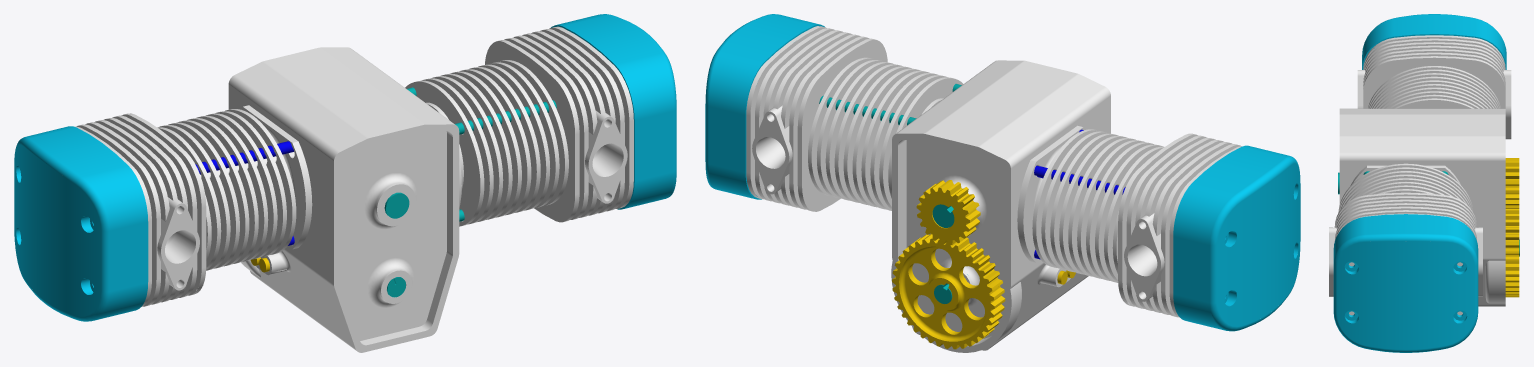
The model's file is engine.gltf.
The picture shows the model from 3 angles, left to right: view 1: azimuth 30°, elevation 25°; view 2: azimuth 150°, elevation 25°; view 3: azimuth 270°, elevation 25°; orthographic projection. The views are drawn at different scales.
Parts seen in each view (by area): view 1: body_1, body_12, body_2, body_3, body_4, body_8, body_5, body, body_6, body_22; view 2: body_1, body_12, body_3, body_4, body_2, body_8, body_5, body_21, body_23; view 3: body_5, body_1, body_8, body_3, body_4, body_2, body_12, body_21, body_23.
Part boxes in pixels (bbox=[...]): body_1: bbox=[228, 47, 459, 352]; body_12: bbox=[14, 126, 148, 321]; body_2: bbox=[405, 60, 568, 226]; body_3: bbox=[157, 105, 312, 270]; body_4: bbox=[485, 26, 633, 222]; body_8: bbox=[75, 113, 206, 306]; body_5: bbox=[551, 14, 676, 209]; body: bbox=[195, 141, 293, 174]; body_6: bbox=[407, 87, 556, 221]; body_22: bbox=[384, 192, 409, 218]; body_1: bbox=[891, 60, 1110, 352]; body_12: bbox=[1173, 145, 1300, 331]; body_3: bbox=[1017, 125, 1164, 282]; body_4: bbox=[746, 26, 887, 211]; body_2: bbox=[808, 57, 963, 210]; body_8: bbox=[1118, 133, 1242, 317]; body_5: bbox=[705, 14, 824, 199]; body_21: bbox=[892, 234, 1005, 349]; body_23: bbox=[916, 180, 980, 245]; body_5: bbox=[1333, 214, 1478, 352]; body_1: bbox=[1339, 108, 1505, 306]; body_8: bbox=[1357, 35, 1511, 139]; body_3: bbox=[1368, 66, 1500, 108]; body_4: bbox=[1329, 192, 1482, 315]; body_2: bbox=[1338, 163, 1473, 212]; body_12: bbox=[1362, 14, 1506, 69]; body_21: bbox=[1505, 209, 1519, 297]; body_23: bbox=[1505, 158, 1519, 208].
Size of the model in its own units: 743 by 273 by 268.
